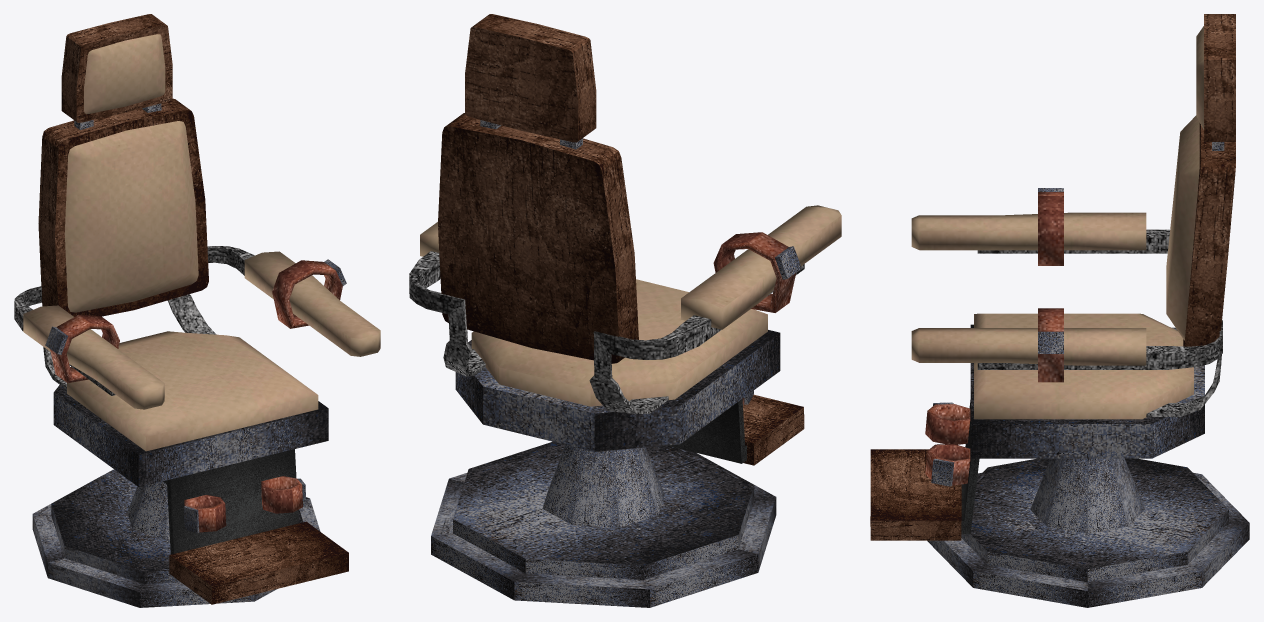
File: SillaMain.fbx
The picture shows the model from 3 angles, left to right: view 1: azimuth 30°, elevation 25°; view 2: azimuth 150°, elevation 25°; view 3: azimuth 270°, elevation 25°; orthographic projection. The views are drawn at different scales.
Visible parts, largest first — view 1: Silla_Cuerpo, Silla_Base; view 2: Silla_Cuerpo, Silla_Base; view 3: Silla_Cuerpo, Silla_Base.
Part boxes in pixels (bbox=[...]): Silla_Cuerpo: bbox=[14, 14, 380, 604]; Silla_Base: bbox=[32, 469, 320, 607]; Silla_Cuerpo: bbox=[409, 14, 841, 465]; Silla_Base: bbox=[431, 441, 776, 607]; Silla_Cuerpo: bbox=[870, 14, 1235, 540]; Silla_Base: bbox=[927, 458, 1249, 607].
Bounding box in the file's own units: 0.9752 × 1.52 × 1.03.
